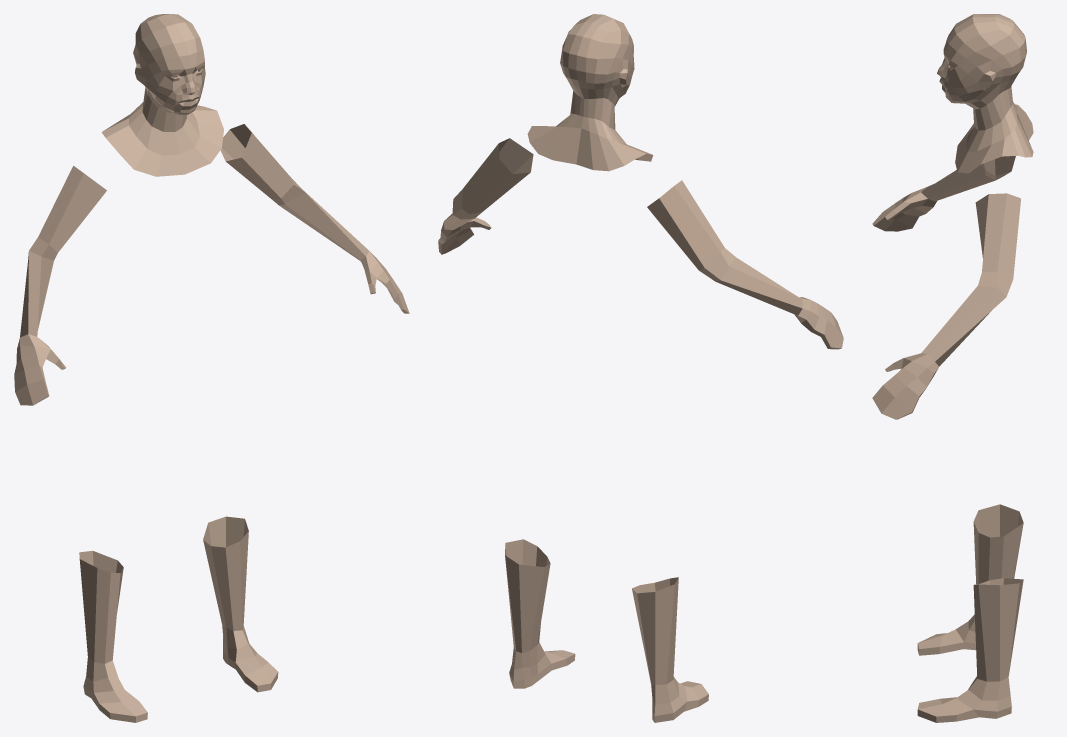
File: female.glb
3 views of the same model, side by side, from view 1: azimuth 30°, elevation 25°; view 2: azimuth 150°, elevation 25°; view 3: azimuth 270°, elevation 25° (orthographic). The views are drawn at different scales.
Visible parts, largest first — view 1: f_base_model; view 2: f_base_model; view 3: f_base_model.
Part boxes in pixels (x1,y1,x2,y2): f_base_model: (14, 14, 409, 722); f_base_model: (438, 14, 843, 722); f_base_model: (872, 14, 1033, 722).
Size of the model in its own units: 97.02 by 159 by 38.97.
